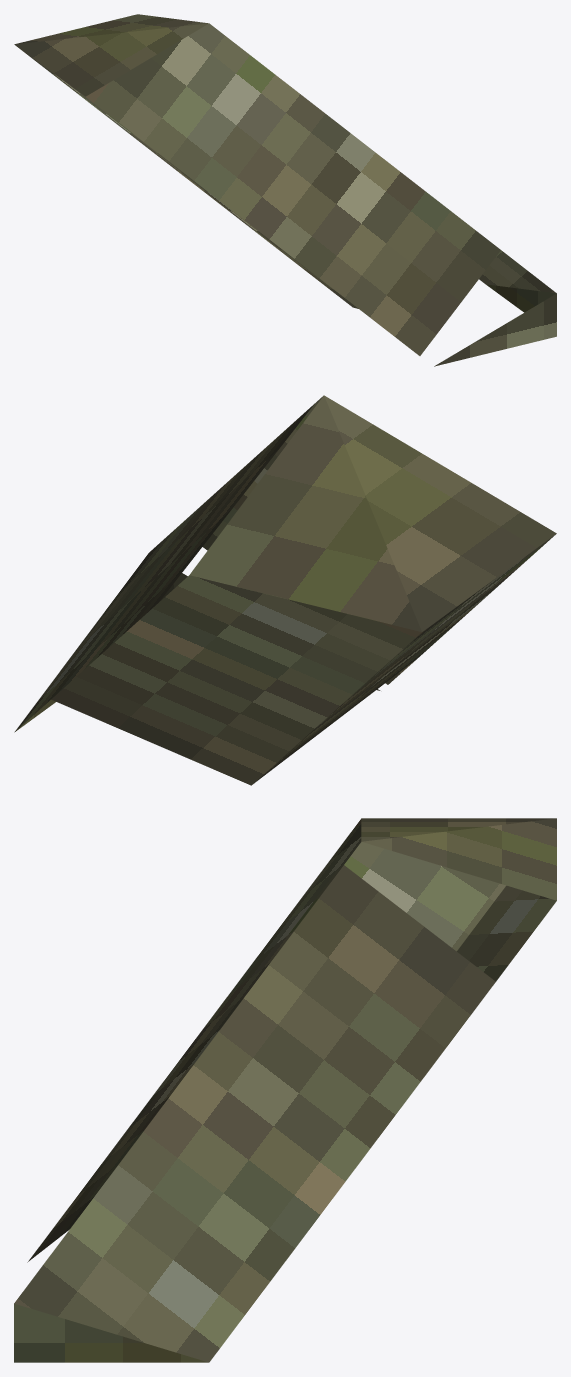
The model's file is maple_branch_45_diagonal.obj.
3 views of the same model, one above another, from view 1: azimuth 30°, elevation 25°; view 2: azimuth 150°, elevation 25°; view 3: azimuth 270°, elevation 25° (orthographic). The views are drawn at different scales.
Visible parts, largest first — view 1: cube; view 2: cube; view 3: cube.
Boxes of the visible parts, x1,y1,x2,y2 form: cube: (14, 14, 556, 366); cube: (14, 395, 556, 785); cube: (14, 818, 556, 1362).
Size of the model in its own units: 1.56 by 1.19 by 1.56.
